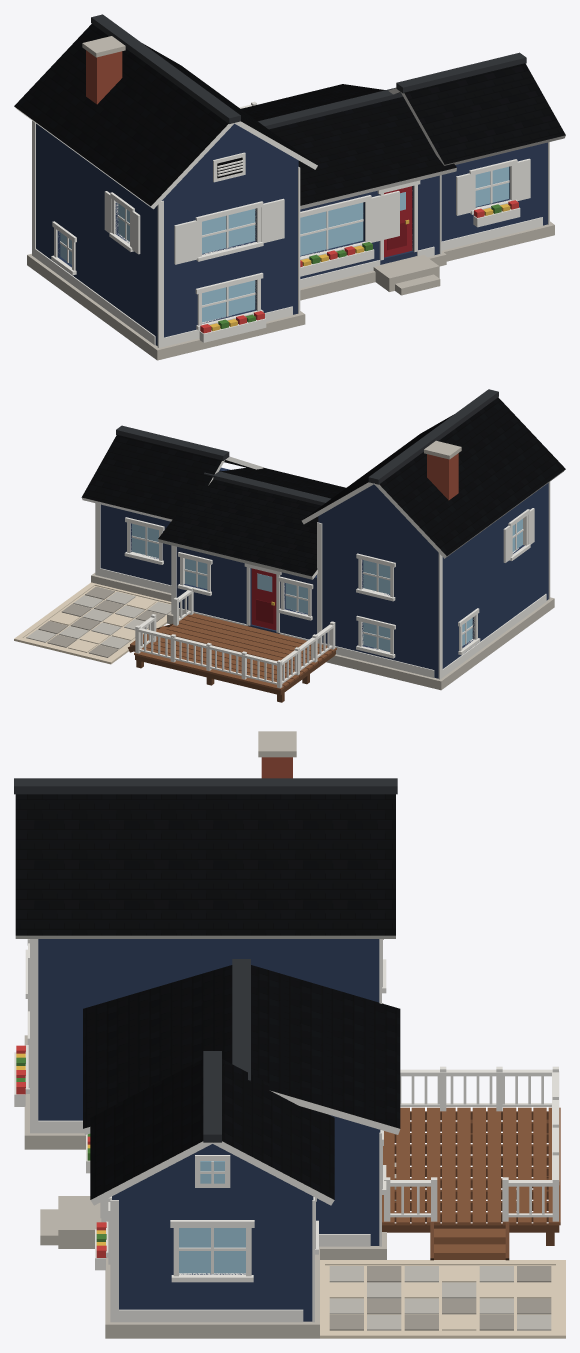
The model's file is base-06-level4.glb.
The picture shows the model from 3 angles, top to bottom: view 1: azimuth 30°, elevation 25°; view 2: azimuth 150°, elevation 25°; view 3: azimuth 270°, elevation 25°; orthographic projection. The views are drawn at different scales.
Parts seen in each view (by area): view 1: base_house_6_finished, piece_addition; view 2: base_house_6_finished, piece_addition, piece_deck, piece_patio; view 3: base_house_6_finished, piece_addition, piece_deck, piece_patio.
Part boxes in pixels (box(x1,y1,x2,y2)): base_house_6_finished: box(14, 14, 456, 360); piece_addition: box(388, 52, 565, 261); base_house_6_finished: box(158, 389, 565, 690); piece_addition: box(81, 425, 263, 601); piece_deck: box(128, 587, 336, 702); piece_patio: box(14, 582, 171, 664); base_house_6_finished: box(14, 731, 400, 1259); piece_addition: box(90, 1051, 334, 1338); piece_deck: box(382, 1066, 560, 1260); piece_patio: box(320, 1260, 565, 1338).
Size of the model in its own units: 15.89 by 8.27 by 12.34.
Materials: 20 (1 with a texture image).
